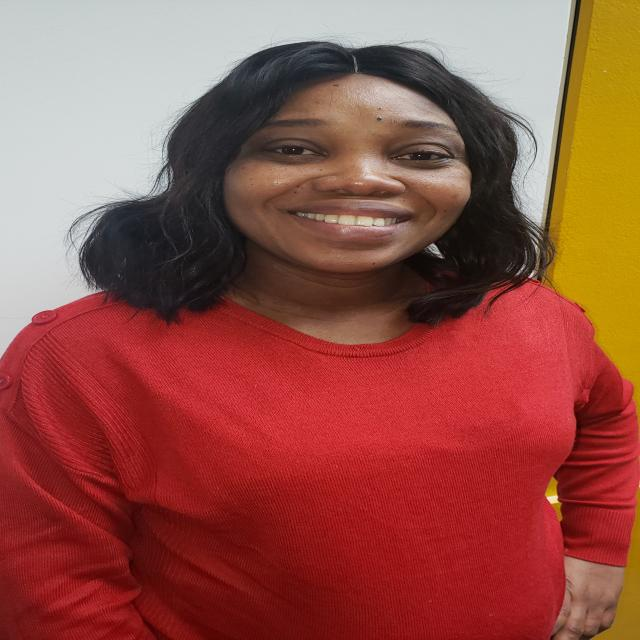happy: (200, 58, 477, 274)
